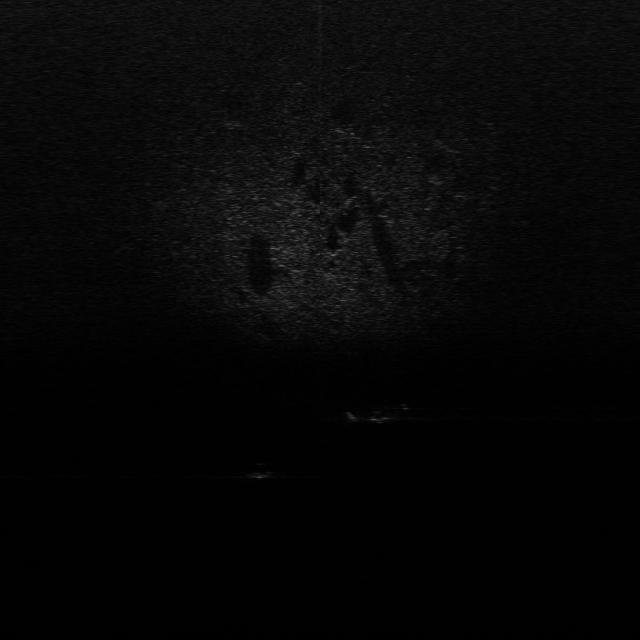ball: (246, 456, 280, 481)
human body: (342, 403, 412, 426)
